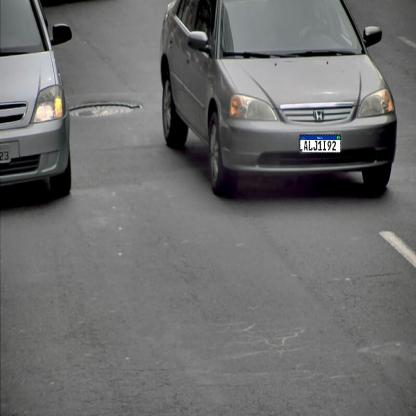PlacaM: (300, 135, 341, 153)
